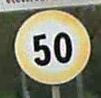limite 50: (12, 9, 92, 86)
